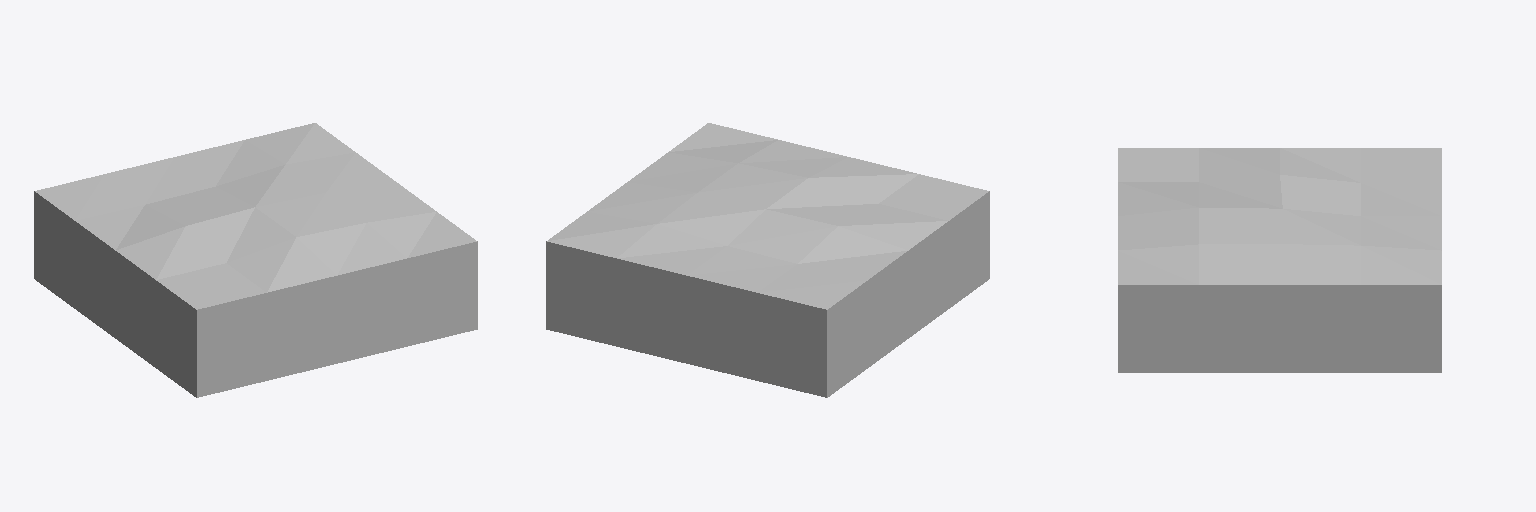
File: Snowtile_4.obj
3 views of the same model, side by side, from view 1: azimuth 30°, elevation 25°; view 2: azimuth 150°, elevation 25°; view 3: azimuth 270°, elevation 25° (orthographic).
Visible parts, largest first — view 1: Cube; view 2: Cube; view 3: Cube.
Part boxes in pixels (x1,y1,x2,y2): Cube: (34, 123, 477, 397); Cube: (546, 123, 989, 397); Cube: (1118, 148, 1441, 372).
Bounding box in the file's own units: 2 × 0.6595 × 2.